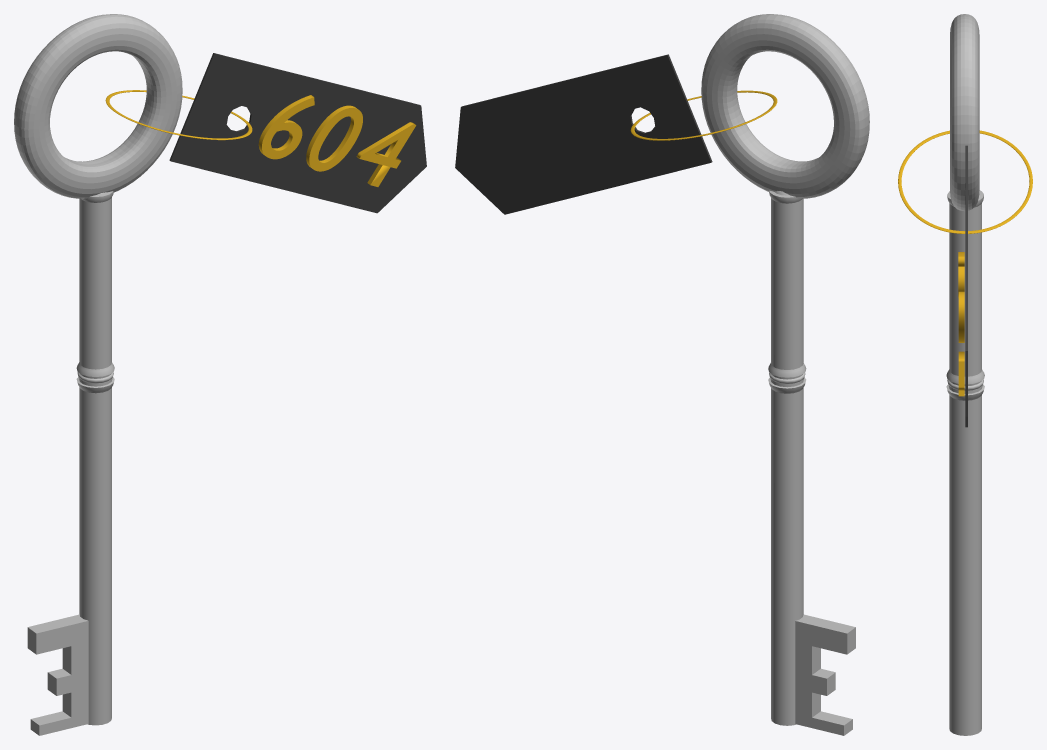
Rendered from key604.fbx.
3 renders of one model, left to right at view 1: azimuth 30°, elevation 25°; view 2: azimuth 150°, elevation 25°; view 3: azimuth 270°, elevation 25°, orthographic.
Parts seen in each view (by area): view 1: key604; view 2: key604; view 3: key604.
Part boxes in pixels (x1=…): key604: x1=14, y1=14, x2=426, y2=735; key604: x1=455, y1=14, x2=869, y2=735; key604: x1=898, y1=14, x2=1032, y2=735.
Size of the model in its own units: 8.68 by 14.18 by 2.45.
